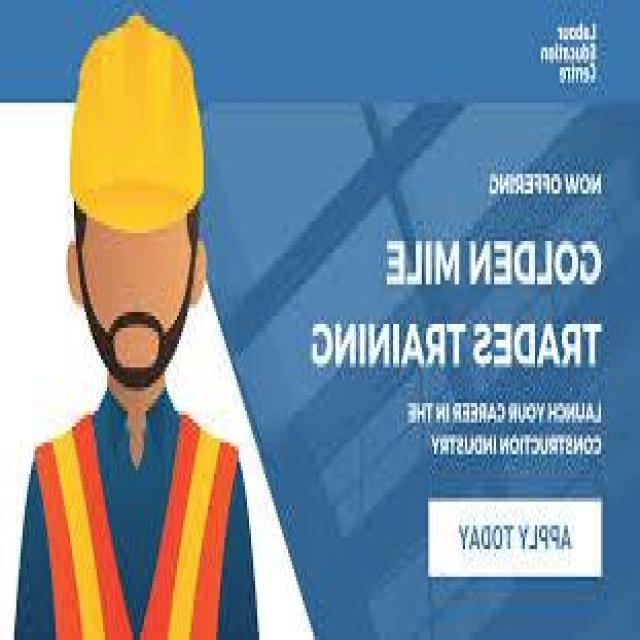reflective_jacket: (25, 387, 245, 639)
safety_helmet: (61, 11, 212, 237)
